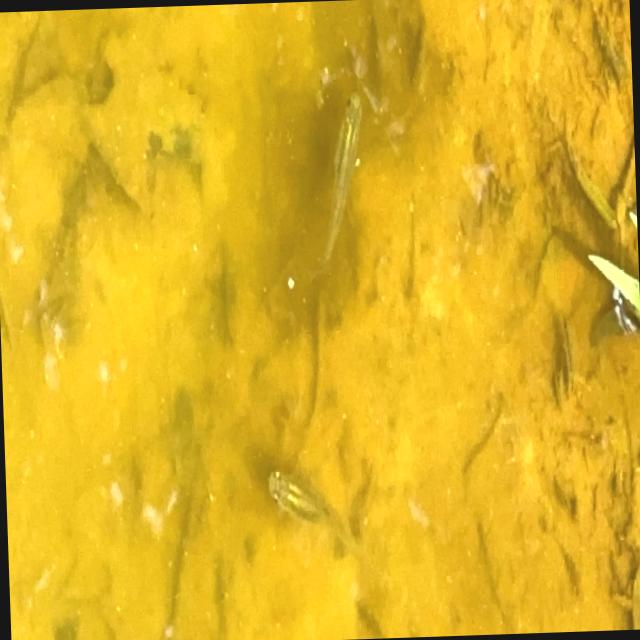Sivrisinek Baligi: (316, 80, 371, 256), (264, 454, 353, 544)
